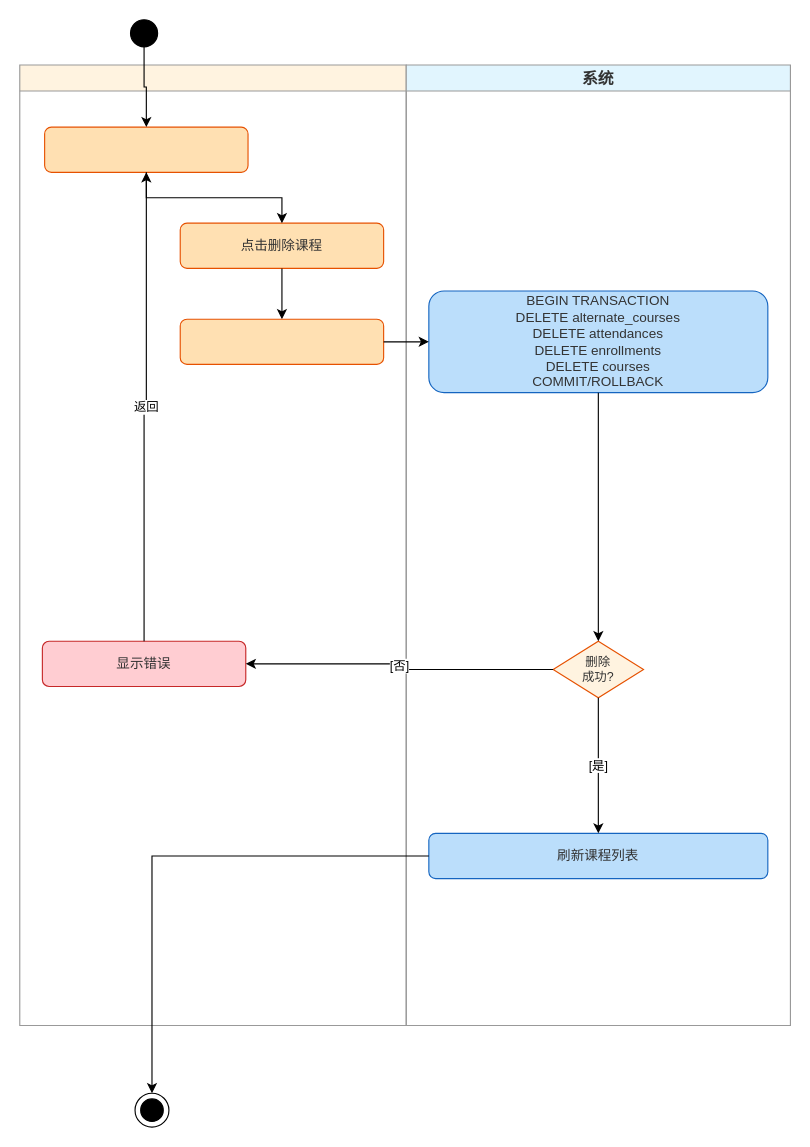
This 810x1147 diagram has some shape labels left out. Each missing label, with the box of its shape:
确认删除弹窗: (179, 318, 384, 364)
管理员: (19, 64, 406, 1025)
进入管理后台: (44, 126, 248, 172)
